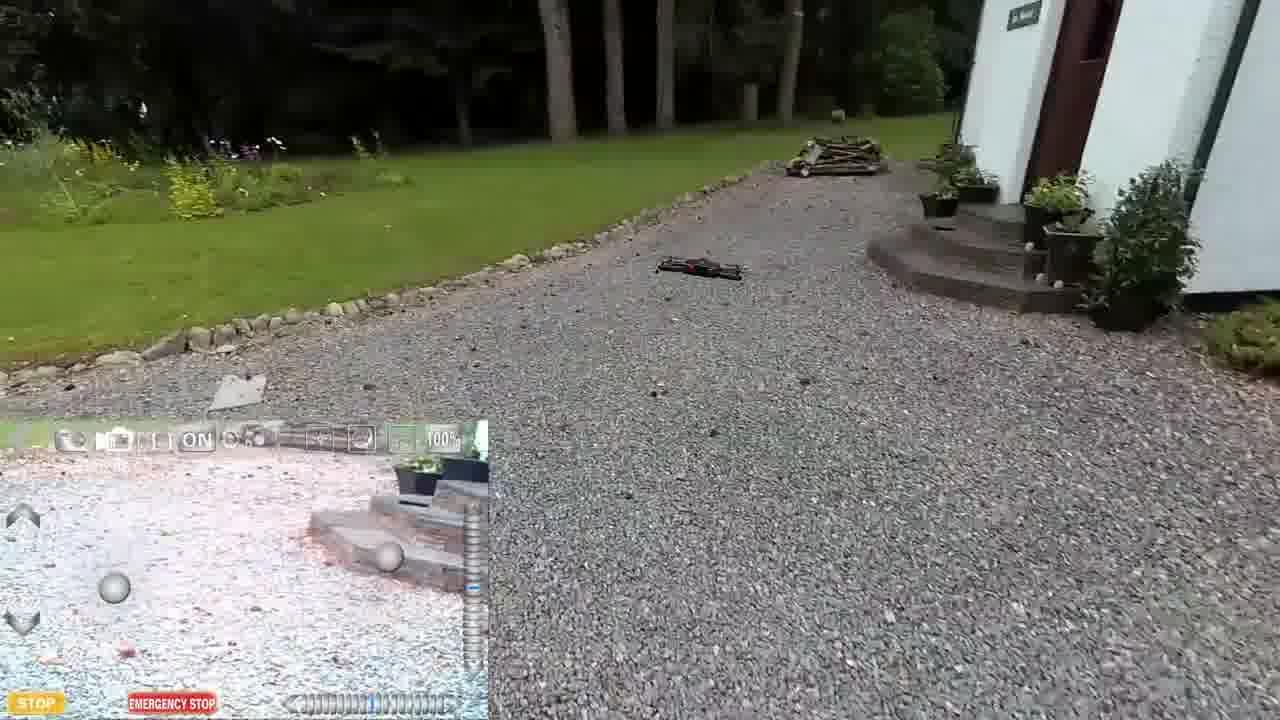drone: (653, 252, 749, 290)
